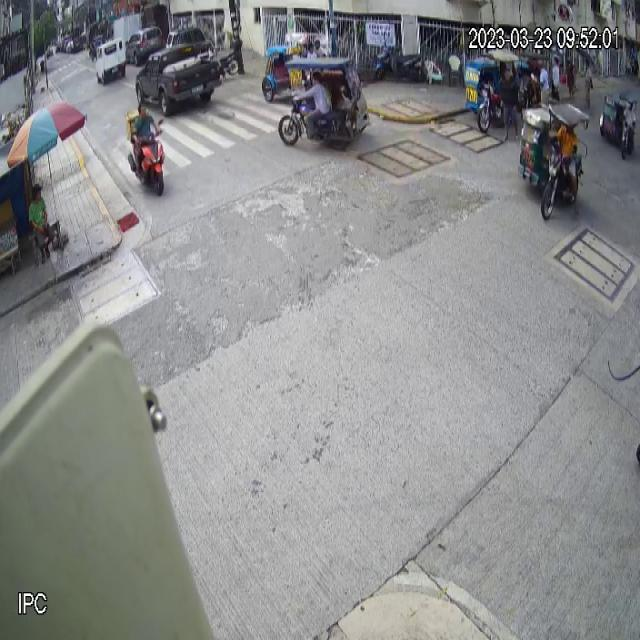Motorcycle: (128, 118, 171, 196)
Tricycle: (517, 99, 591, 225), (278, 54, 372, 153)
